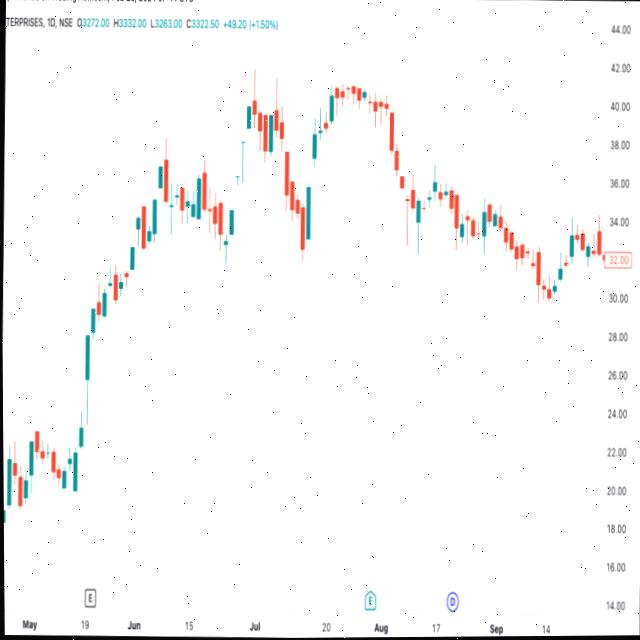Gap Down: (398, 171, 420, 252)
Gap Up: (222, 111, 253, 253), (301, 130, 321, 246), (148, 159, 162, 249)
